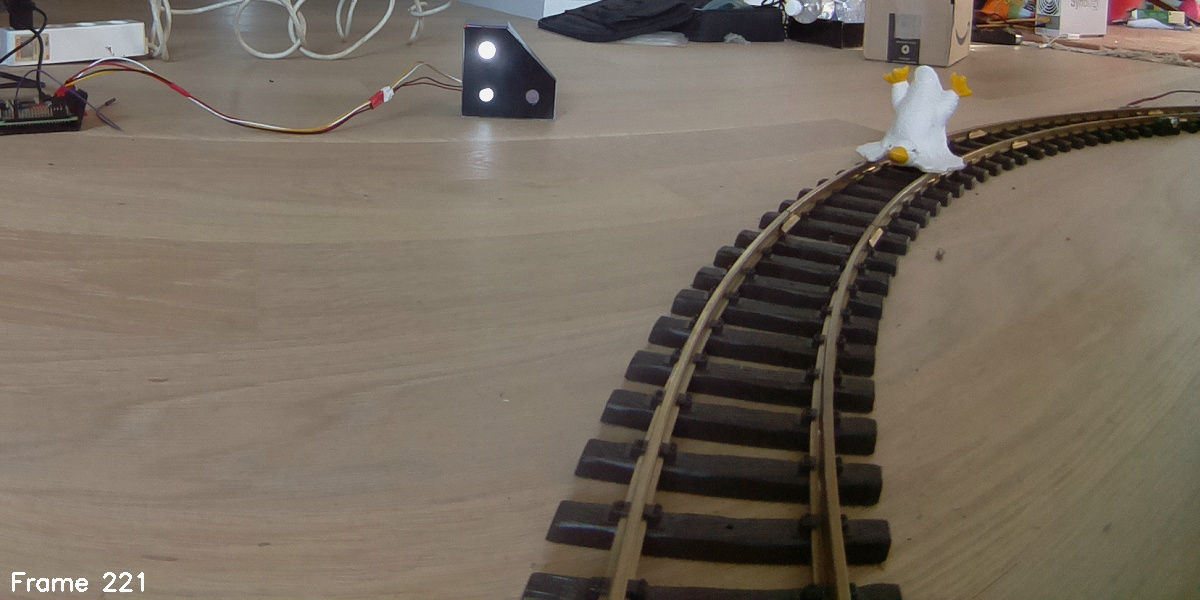Ente: (851, 63, 970, 183)
Fahrt: (462, 21, 558, 122)
